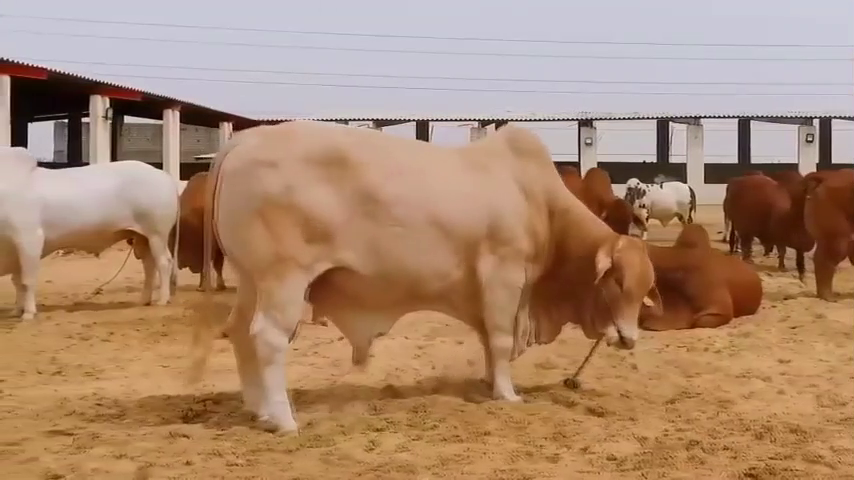bo: (195, 120, 661, 436), (1, 138, 177, 322), (634, 222, 767, 334), (780, 156, 853, 313), (166, 161, 232, 299), (713, 163, 782, 274), (555, 163, 642, 238), (617, 169, 702, 239)
